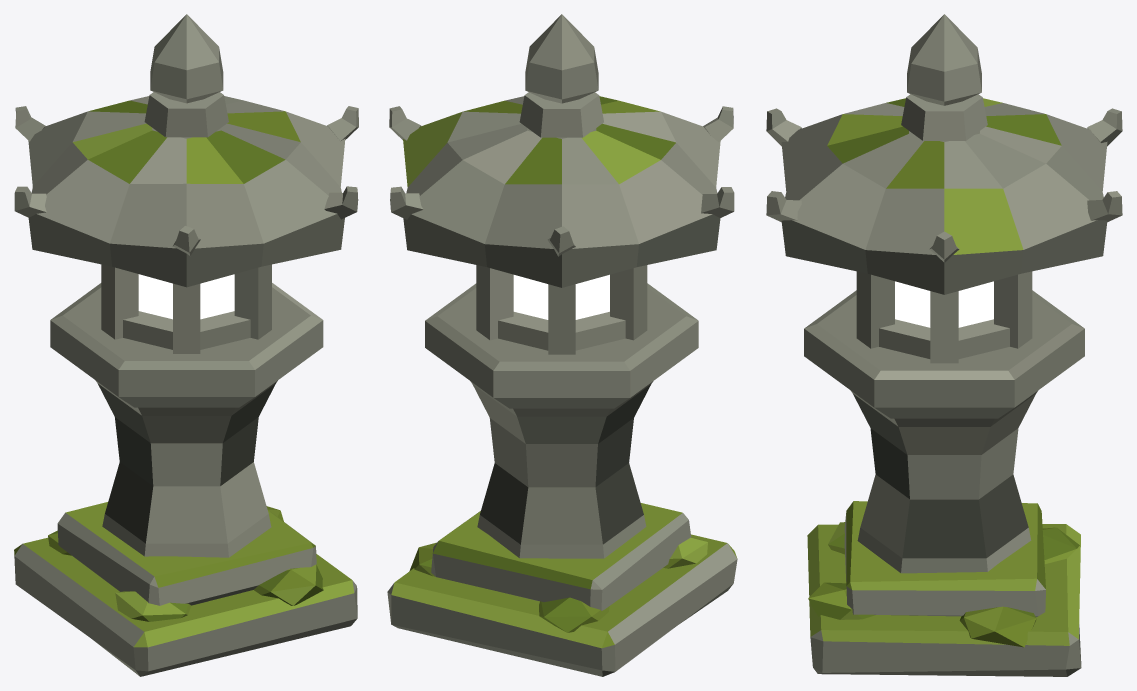
File: zen_lantern.glb
3 renders of one model, left to right at view 1: azimuth 30°, elevation 25°; view 2: azimuth 150°, elevation 25°; view 3: azimuth 270°, elevation 25°, orthographic. The views are drawn at different scales.
Visible parts, largest first — view 1: zen_lantern; view 2: zen_lantern; view 3: zen_lantern.
Boxes of the visible parts, left/top/right/bottom form: zen_lantern: left=14, top=14, right=358, bottom=676; zen_lantern: left=387, top=14, right=737, bottom=676; zen_lantern: left=766, top=14, right=1122, bottom=676.
Size of the model in its own units: 1.46 by 2.4 by 1.27.
